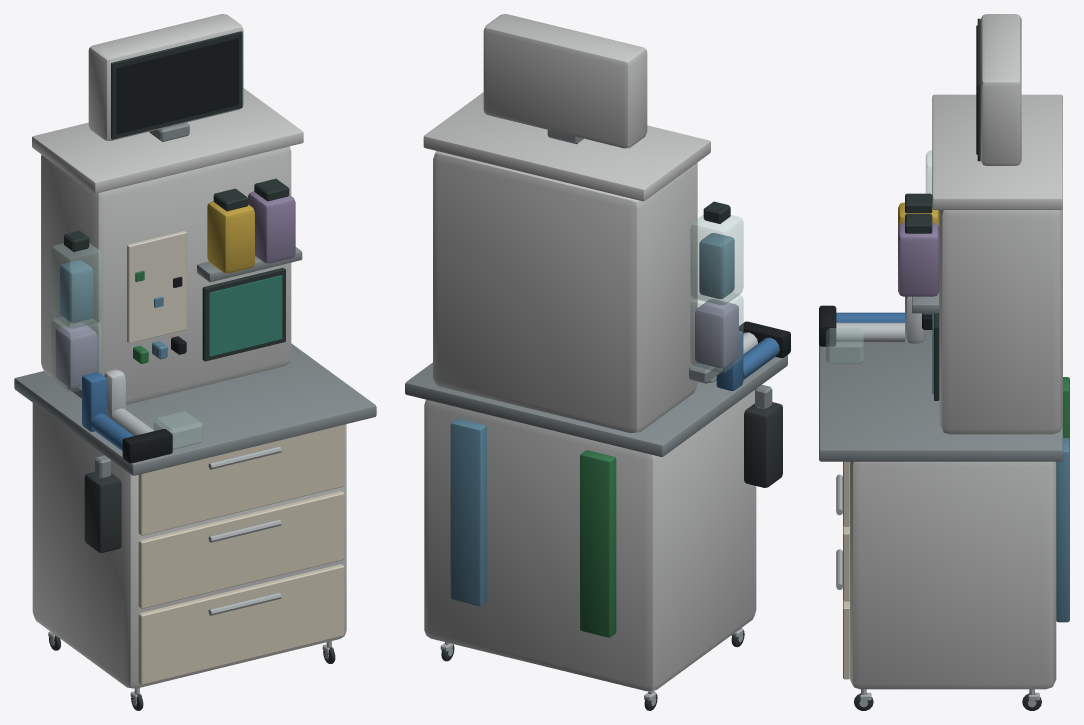
The model's file is anesthesia-machine.glb.
3 renders of one model, left to right at view 1: azimuth 30°, elevation 25°; view 2: azimuth 150°, elevation 25°; view 3: azimuth 270°, elevation 25°, orthographic. The views are drawn at different scales.
Parts seen in each view (by area): view 1: anesthesia-machine; view 2: anesthesia-machine; view 3: anesthesia-machine.
Part boxes in pixels (bbox=[...]): anesthesia-machine: bbox=[14, 14, 376, 710]; anesthesia-machine: bbox=[405, 14, 790, 710]; anesthesia-machine: bbox=[819, 14, 1069, 710].
Size of the model in its own units: 0.89 by 1.98 by 0.73.
